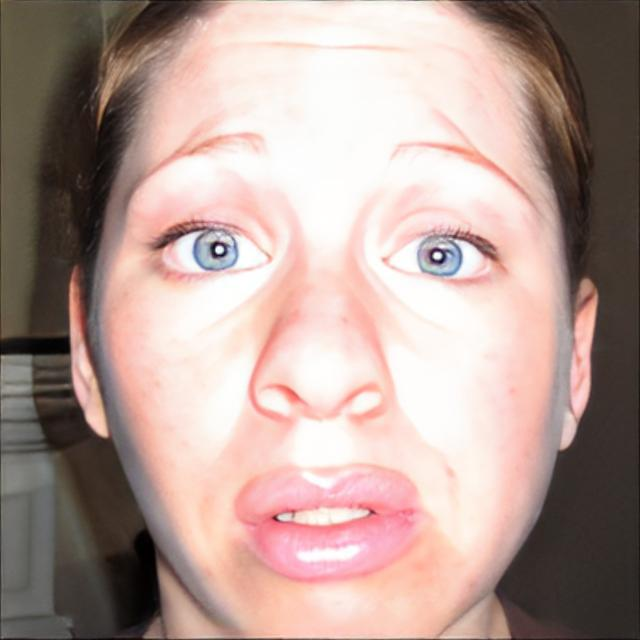fear: (93, 3, 572, 640)
